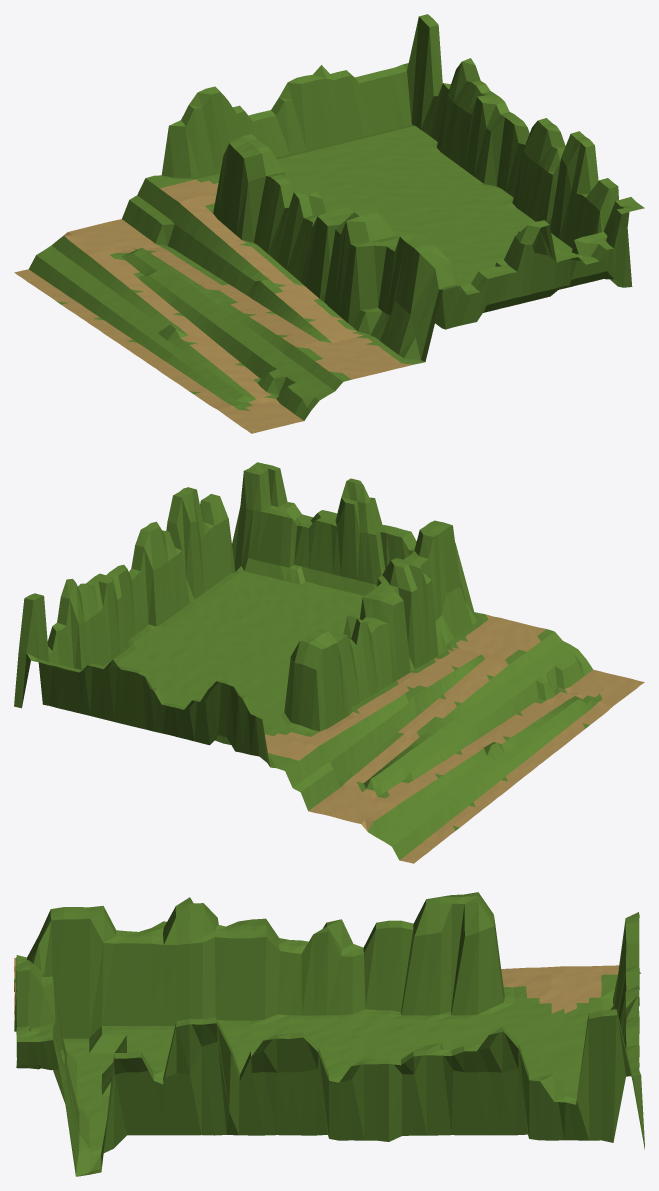
Rendered from Field.fbx.
3 renders of one model, top to bottom at view 1: azimuth 30°, elevation 25°; view 2: azimuth 150°, elevation 25°; view 3: azimuth 270°, elevation 25°, orthographic. The views are drawn at different scales.
Parts seen in each view (by area): view 1: Terrain; view 2: Terrain; view 3: Terrain.
Part boxes in pixels (left/top/right/bottom): Terrain: left=14, top=14, right=644, bottom=433; Terrain: left=14, top=462, right=644, bottom=863; Terrain: left=14, top=892, right=644, bottom=1176.
Size of the model in its own units: 17932 by 6997 by 18255.
